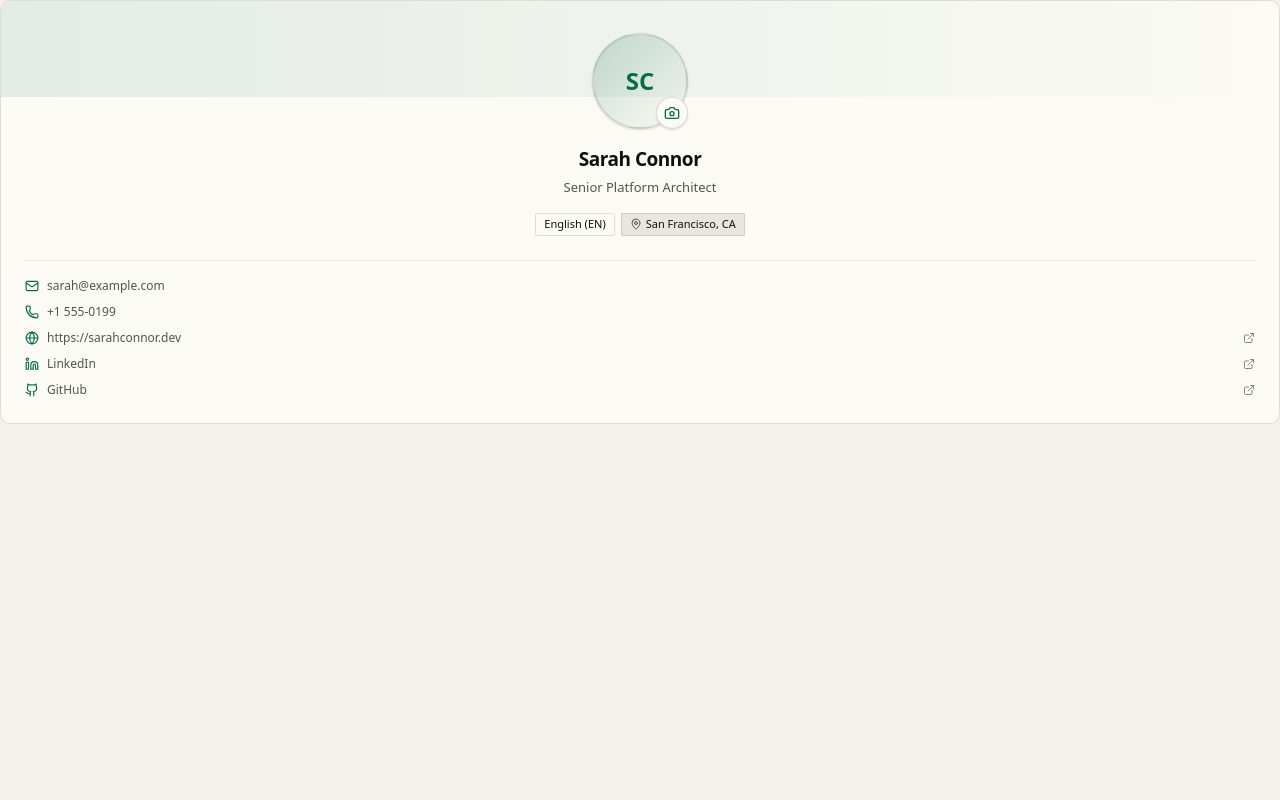
it: Candidate Profile Components › ProfileOverviewCard (covers: AC-2, AC-3) › opens avatar crop modal when edit button is clicked
The width and height of the screenshot is (1280, 800).
Click the button named "Edit profile photo". click: (672, 113)
box: [656, 97, 688, 129]
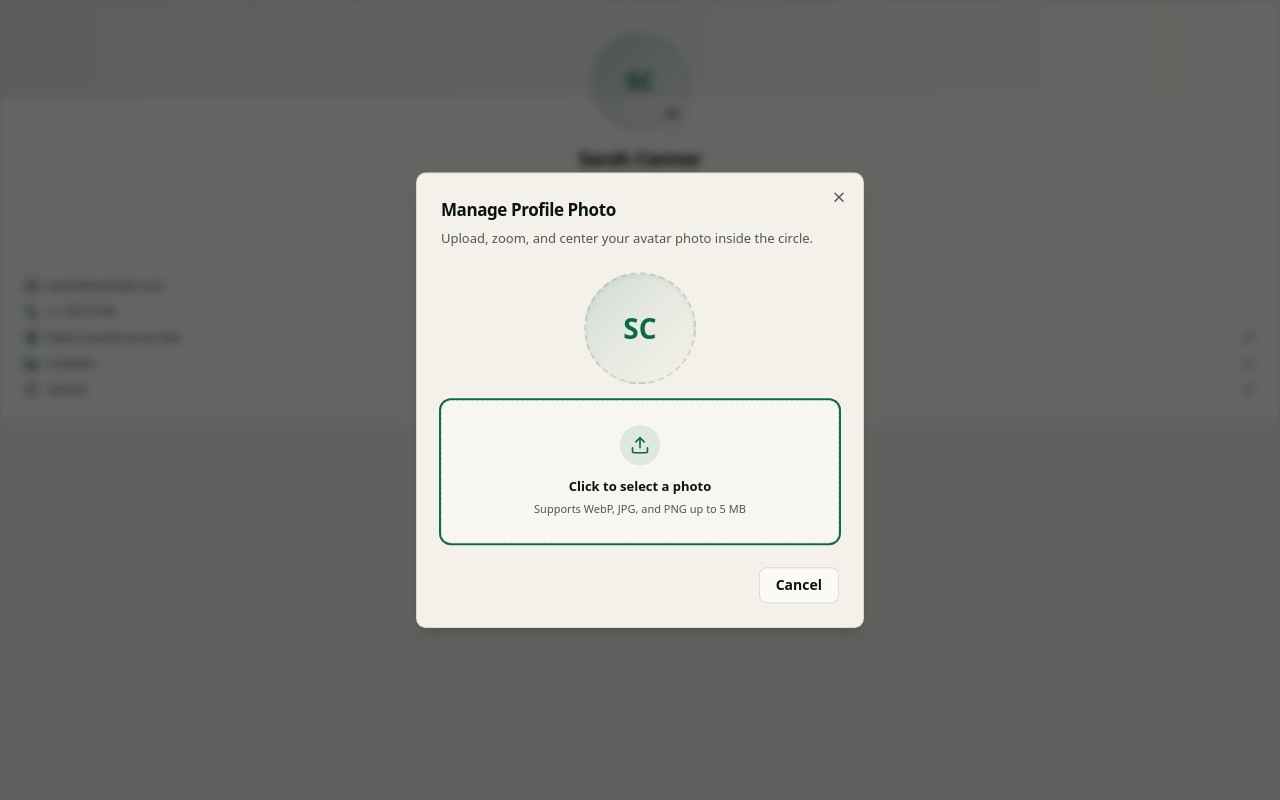
Now the dialog is shown, box [416, 172, 864, 628]
